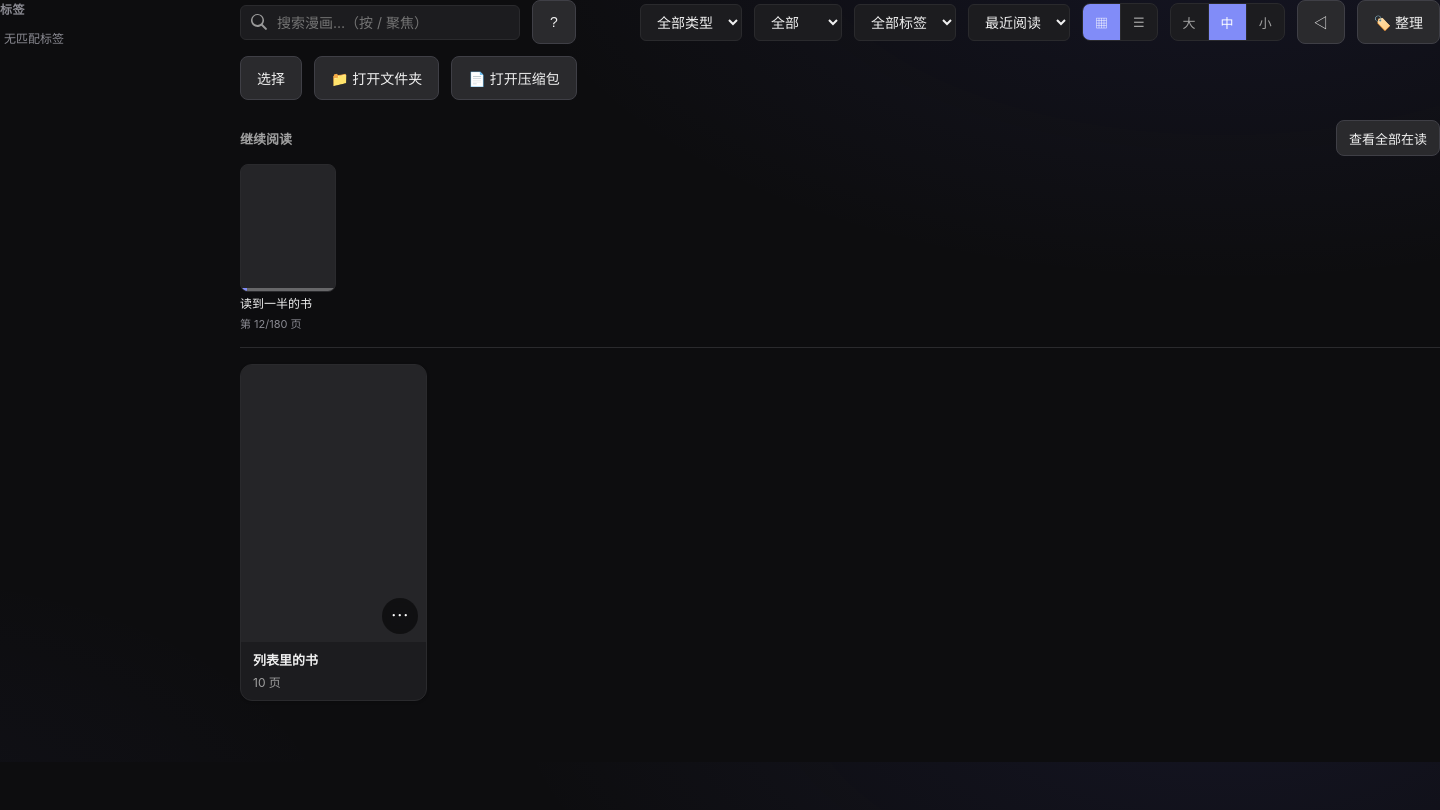
Scenario: Library 继续阅读横条 › 展示在读项与进度，点击直接续读
This screenshot has width=1440, height=810.
Expected: the text "继续阅读" is shown, [240,128,292,148]
Expected: the text "第 12/180 页" is shown, [240,315,302,331]
Click the button titled "继续阅读《读到一半的书》" at (288, 248), box [240,164,336,331]
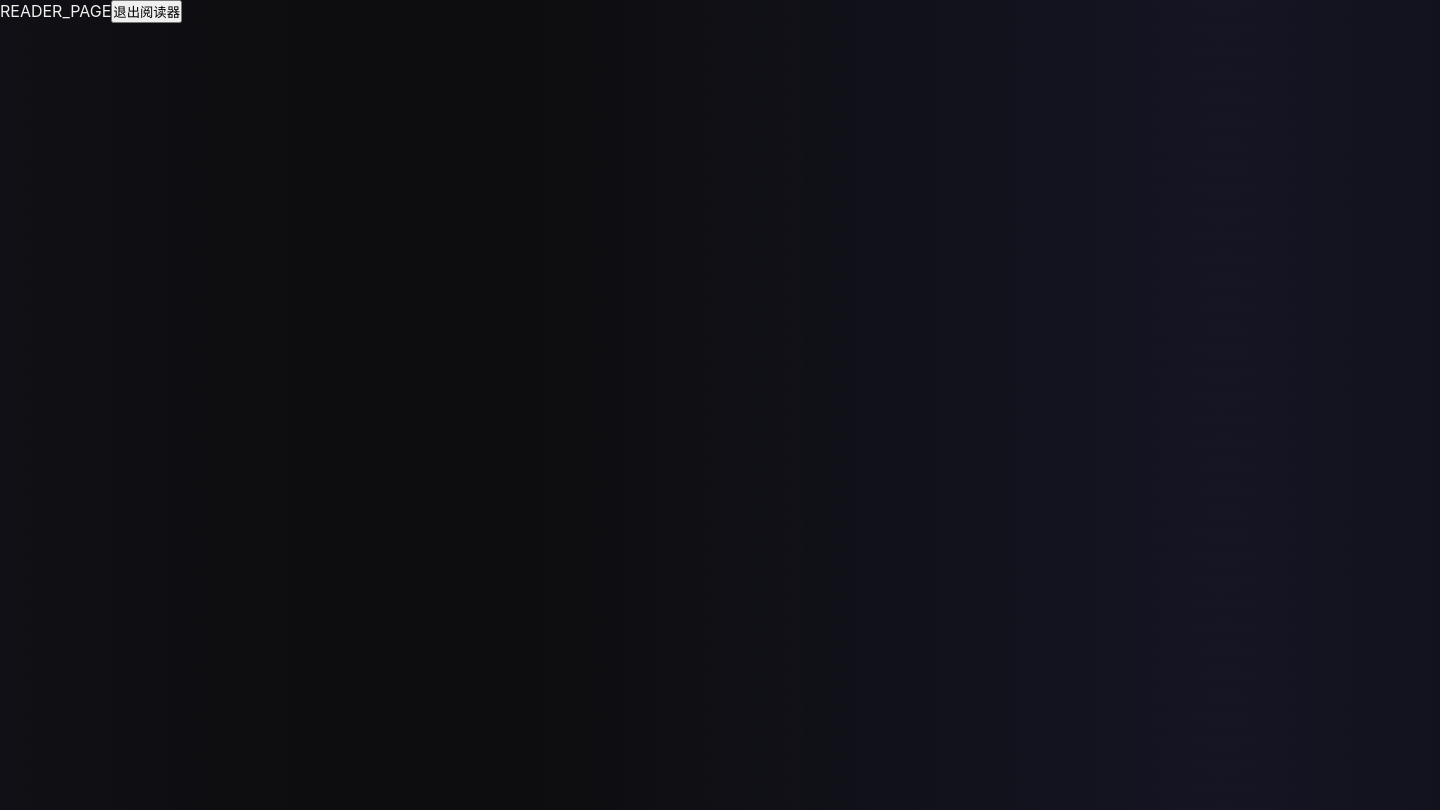
Now the text "READER_PAGE" is shown, box [0,1,111,21]
